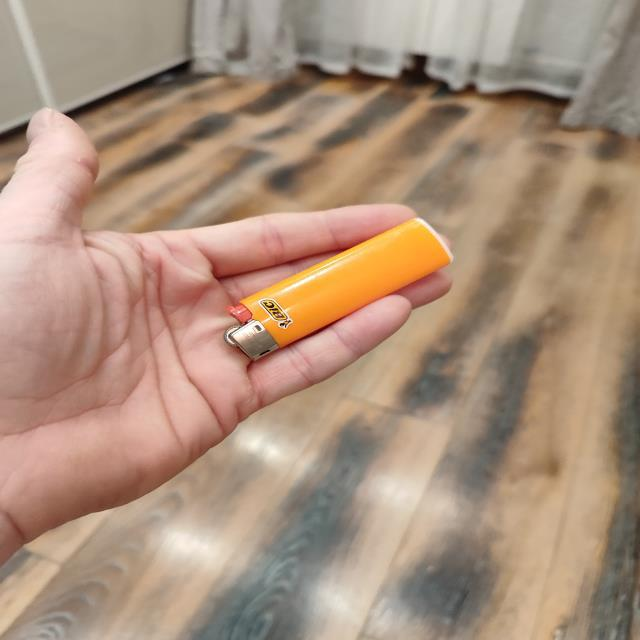lighter: (225, 218, 451, 360)
